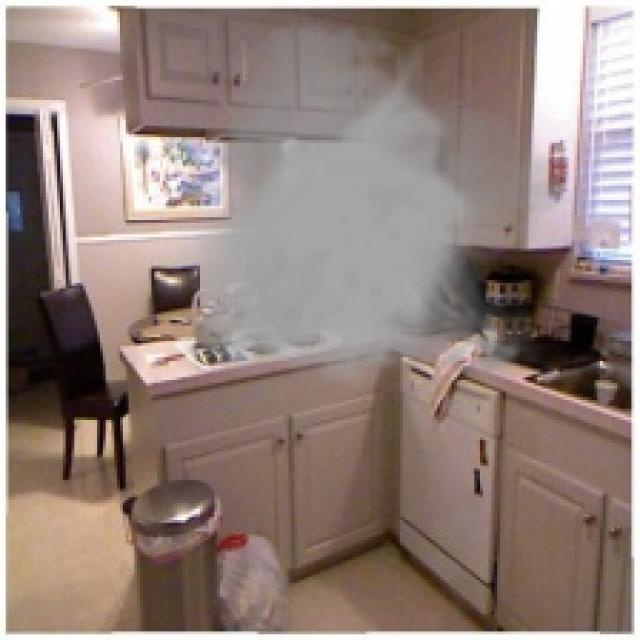Smoke: (174, 17, 566, 392)
